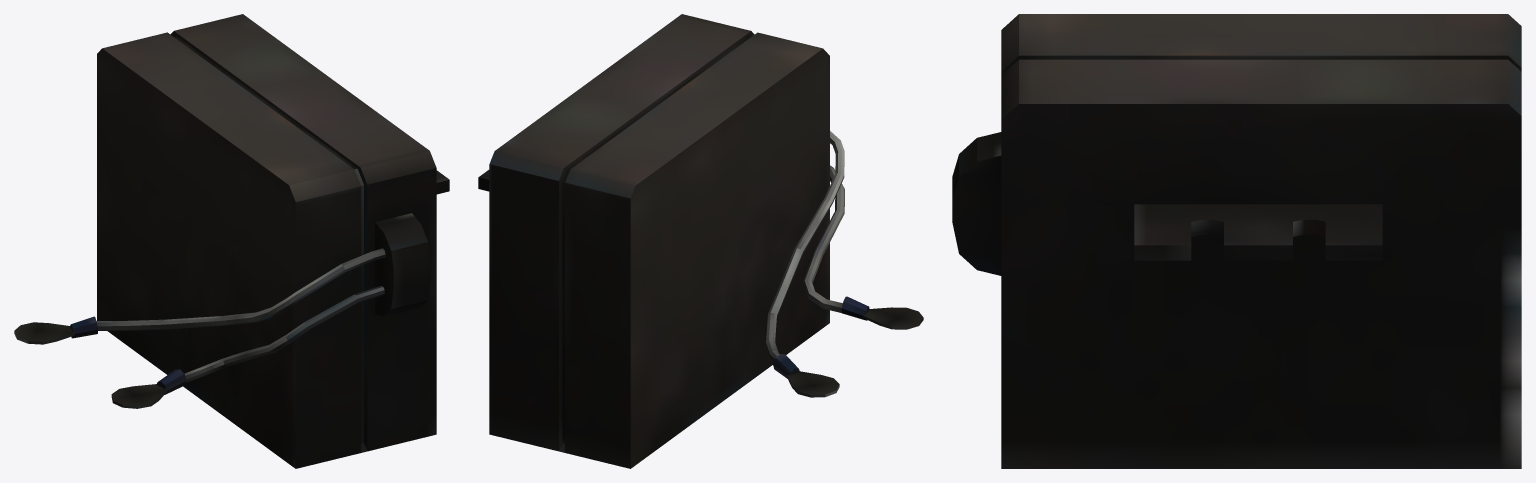
Rendered from bvs.fbx.
The picture shows the model from 3 angles, left to right: view 1: azimuth 30°, elevation 25°; view 2: azimuth 150°, elevation 25°; view 3: azimuth 270°, elevation 25°; orthographic projection. The views are drawn at different scales.
Visible parts, largest first — view 1: bvs; view 2: bvs; view 3: bvs.
Boxes of the visible parts, <box> form: bvs: <box>14,14,449,468</box>; bvs: <box>478,14,923,468</box>; bvs: <box>952,14,1521,468</box>.
Size of the model in its own units: 0.0747 by 0.0573 by 0.081.
